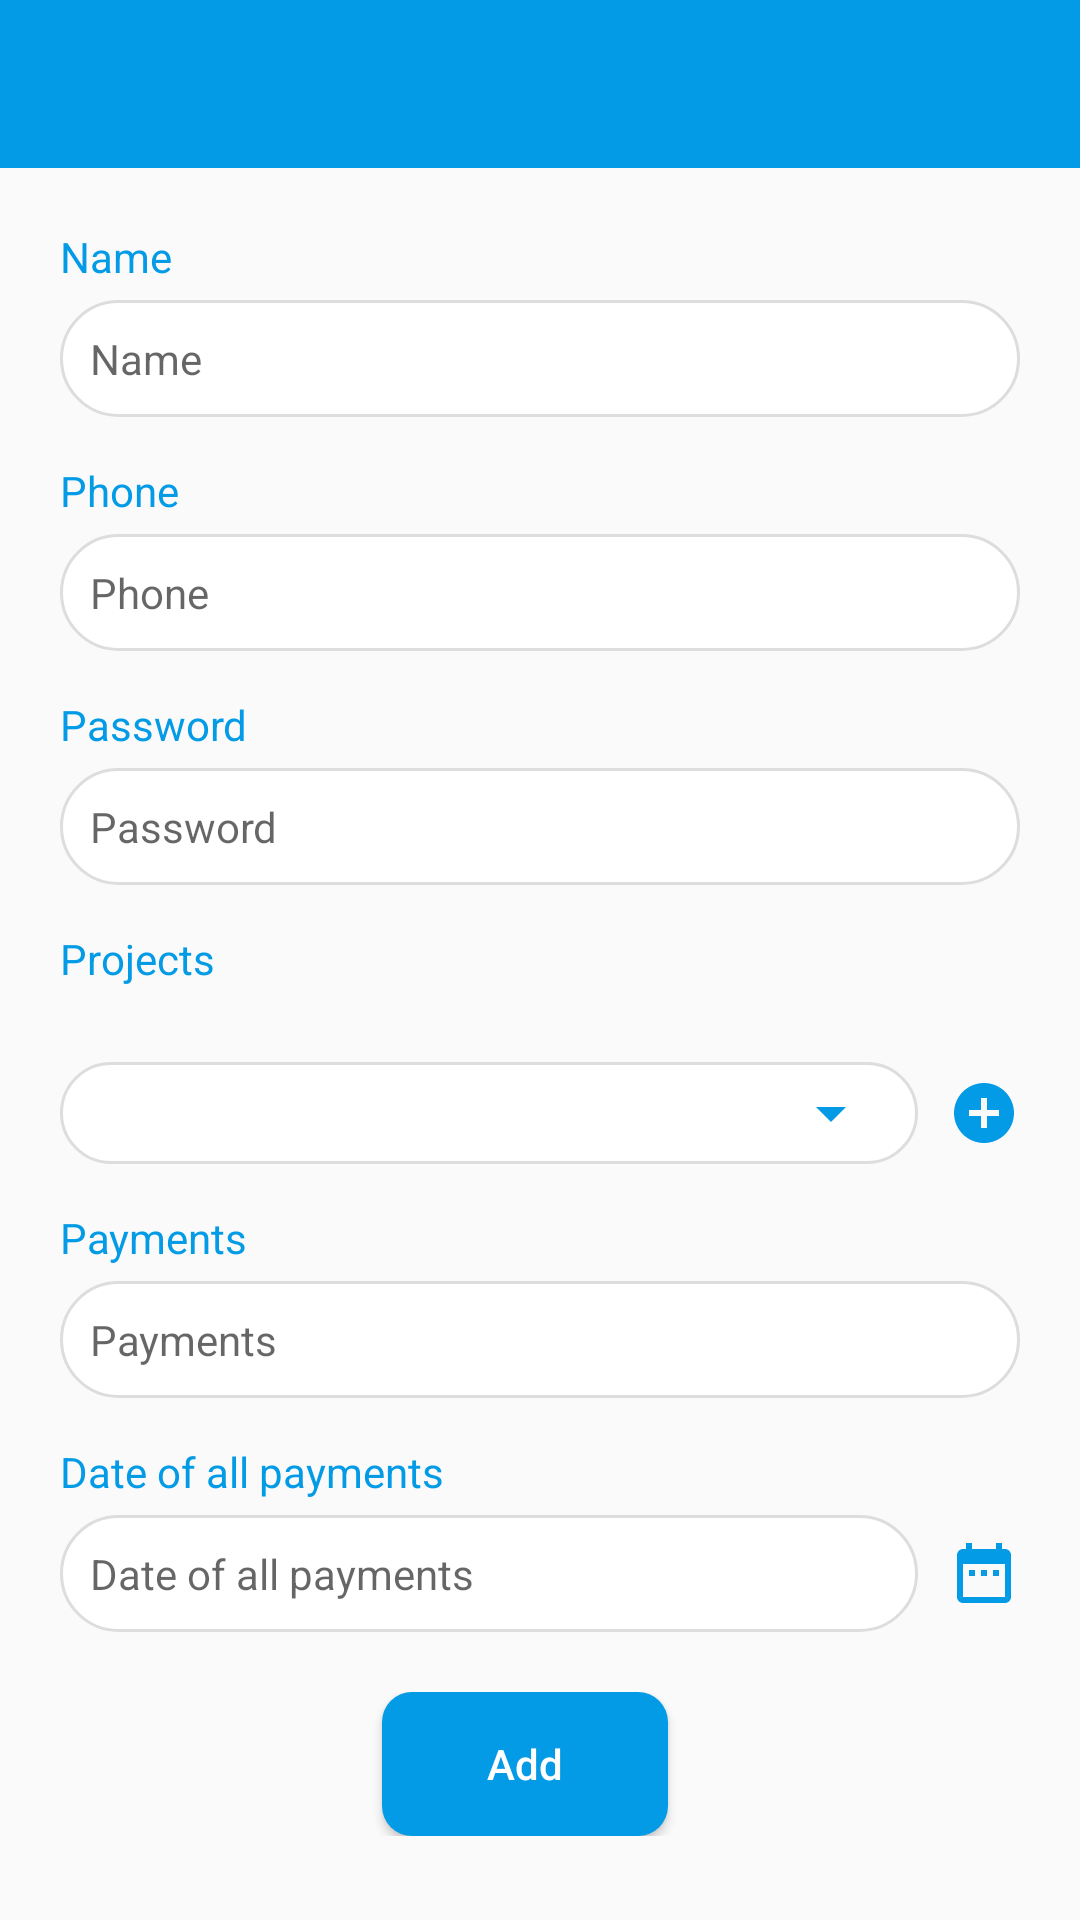

Named icons in this screenshot (1080 × 1920) and their centers, (x,y):
add: (984,1113)
set date: (984,1573)
